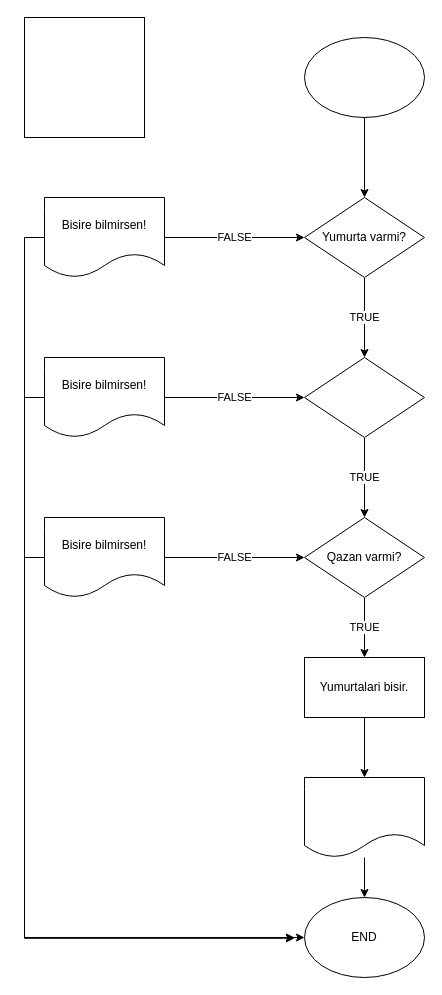
This 442x995 diagram has some shape labels left out. Here are the shapes that lost their labels. From the top down, the centre of each, then its label:
point 84,77: Yumurta bisirmek
point 364,77: START
point 364,397: Yag varmi?
point 364,817: Yumurta bisdi.
